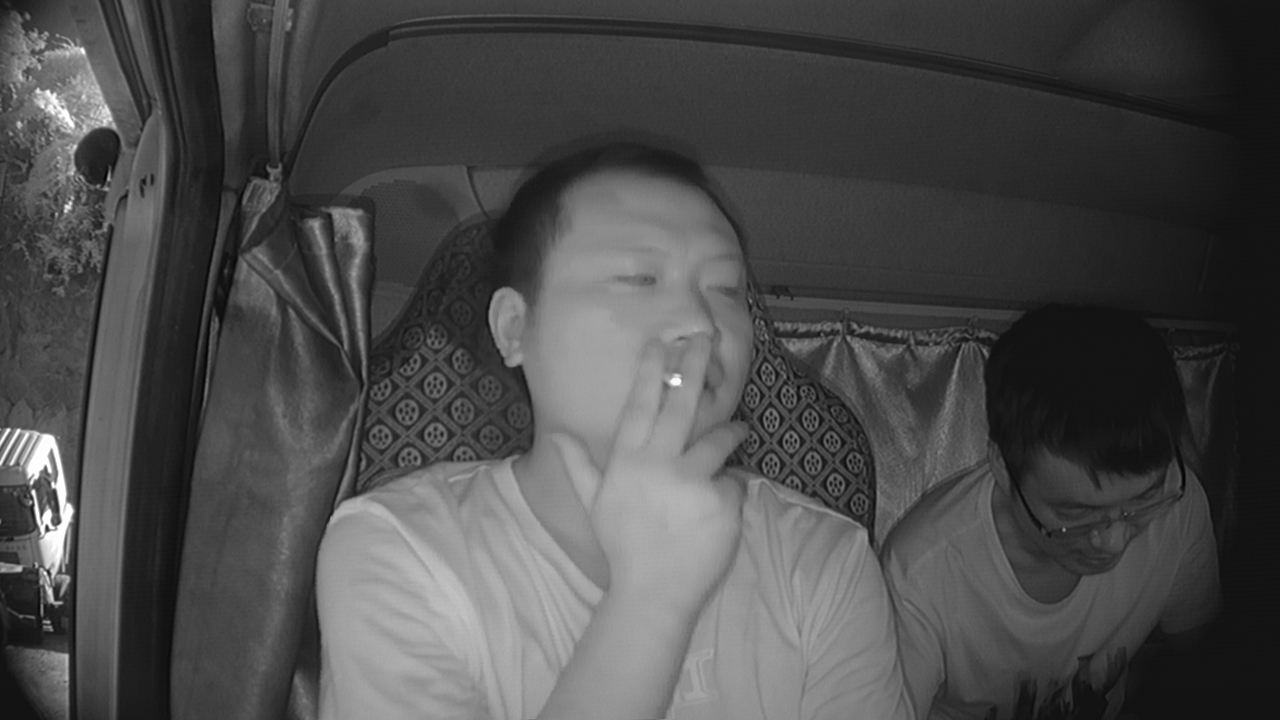hand: (616, 341, 753, 534)
